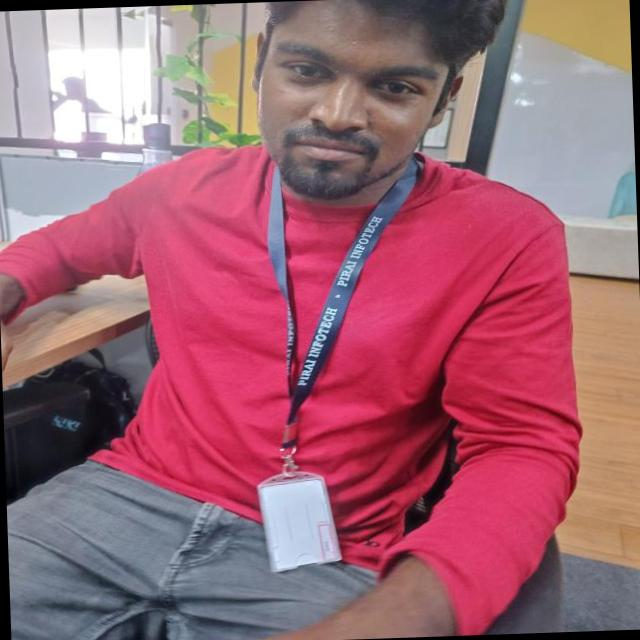id_card: (246, 144, 427, 570)
